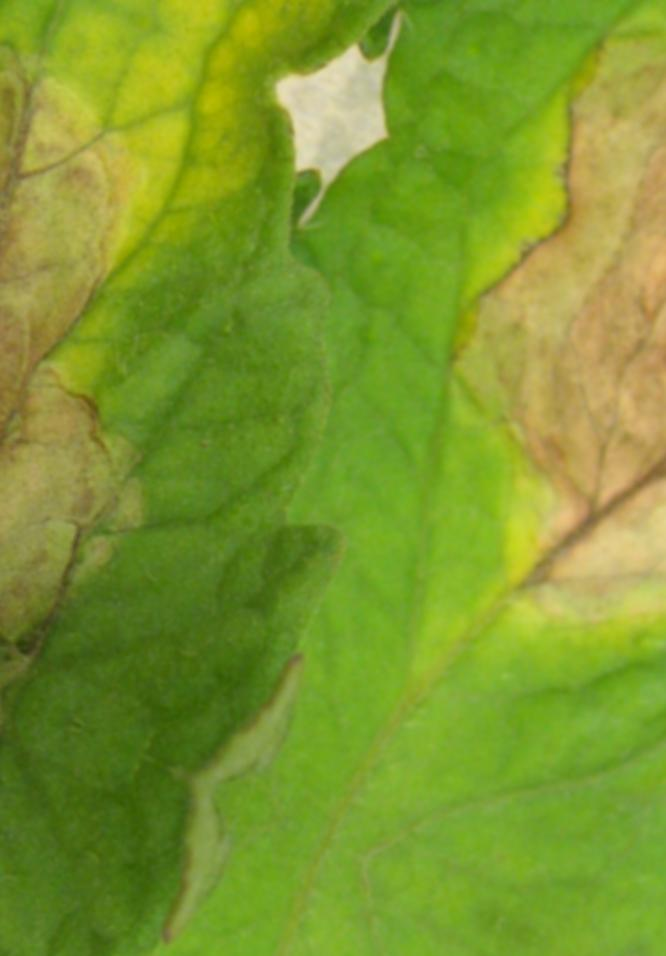Tomato leaf late blight: (122, 144, 666, 956), (0, 0, 512, 797)
